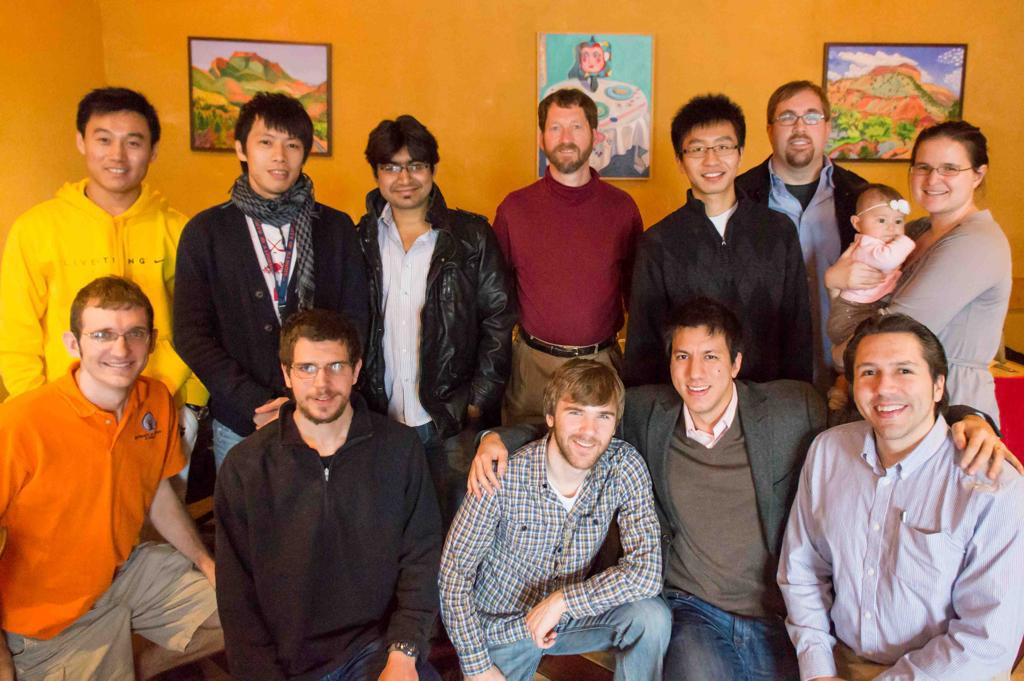face: (854, 333, 935, 439), (79, 304, 152, 388), (84, 108, 151, 192), (290, 339, 353, 422), (671, 327, 731, 413), (913, 136, 975, 214), (247, 115, 305, 194), (773, 89, 827, 172), (554, 399, 617, 469), (683, 120, 739, 193), (543, 101, 594, 172), (378, 149, 434, 208), (862, 208, 905, 249)
